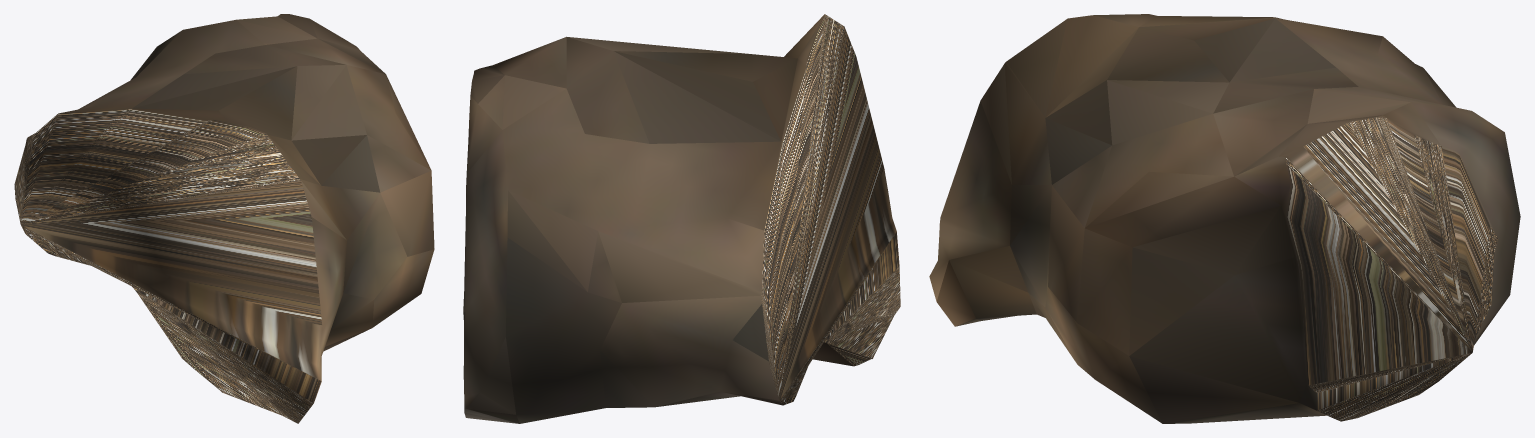
File: Sungaya_inexpectata_31mg.069.obj
3 renders of one model, left to right at view 1: azimuth 30°, elevation 25°; view 2: azimuth 150°, elevation 25°; view 3: azimuth 270°, elevation 25°, orthographic. The views are drawn at different scales.
Parts seen in each view (by area): view 1: 42-h-r-coxa.000_Sungaya_inexpectata_31mg.069; view 2: 42-h-r-coxa.000_Sungaya_inexpectata_31mg.069; view 3: 42-h-r-coxa.000_Sungaya_inexpectata_31mg.069.
Boxes of the visible parts, x1,y1,x2,y2 form: 42-h-r-coxa.000_Sungaya_inexpectata_31mg.069: (14,14,434,423); 42-h-r-coxa.000_Sungaya_inexpectata_31mg.069: (463,14,900,423); 42-h-r-coxa.000_Sungaya_inexpectata_31mg.069: (929,14,1520,423).
Bounding box in the file's own units: 0.00064 × 0.000539 × 0.000902.
1 material, 1 textured.
